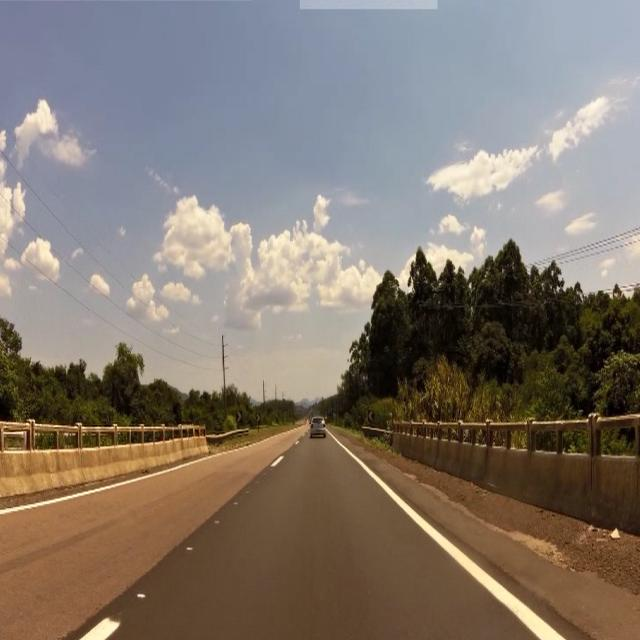Del: (369, 408, 375, 424), (255, 412, 262, 425), (236, 410, 242, 422)
